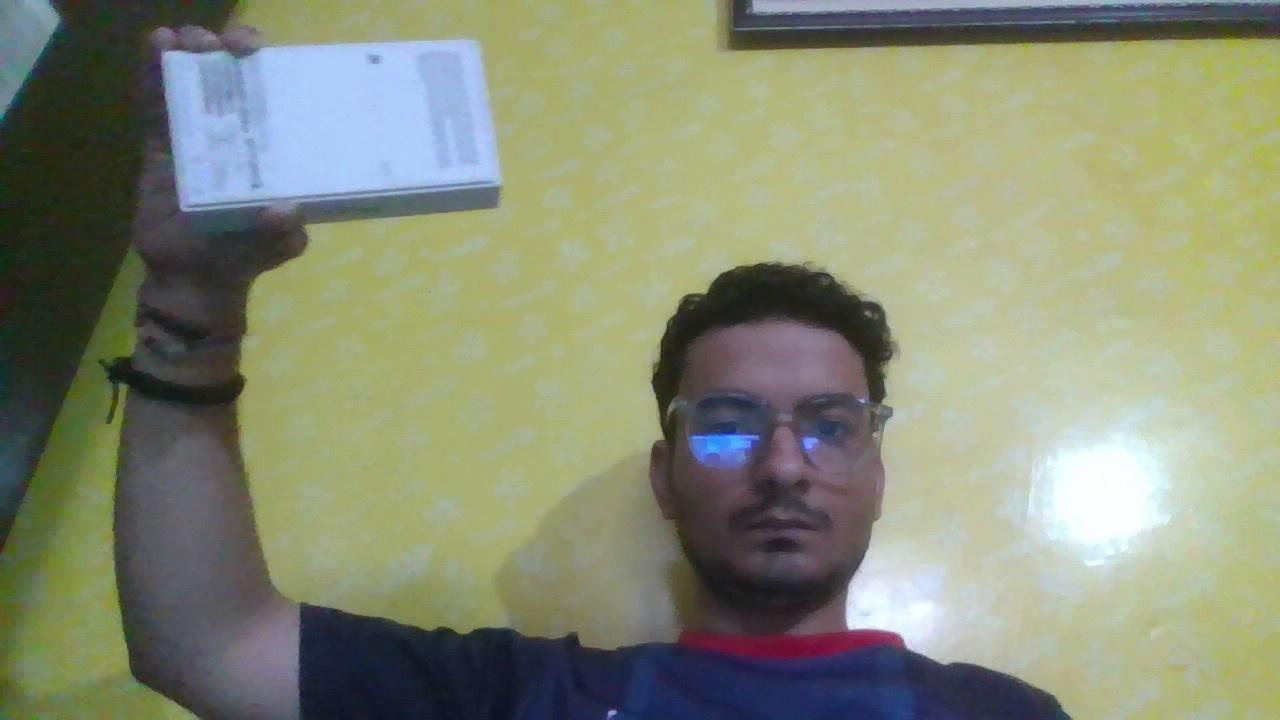Phone: (131, 23, 526, 249)
